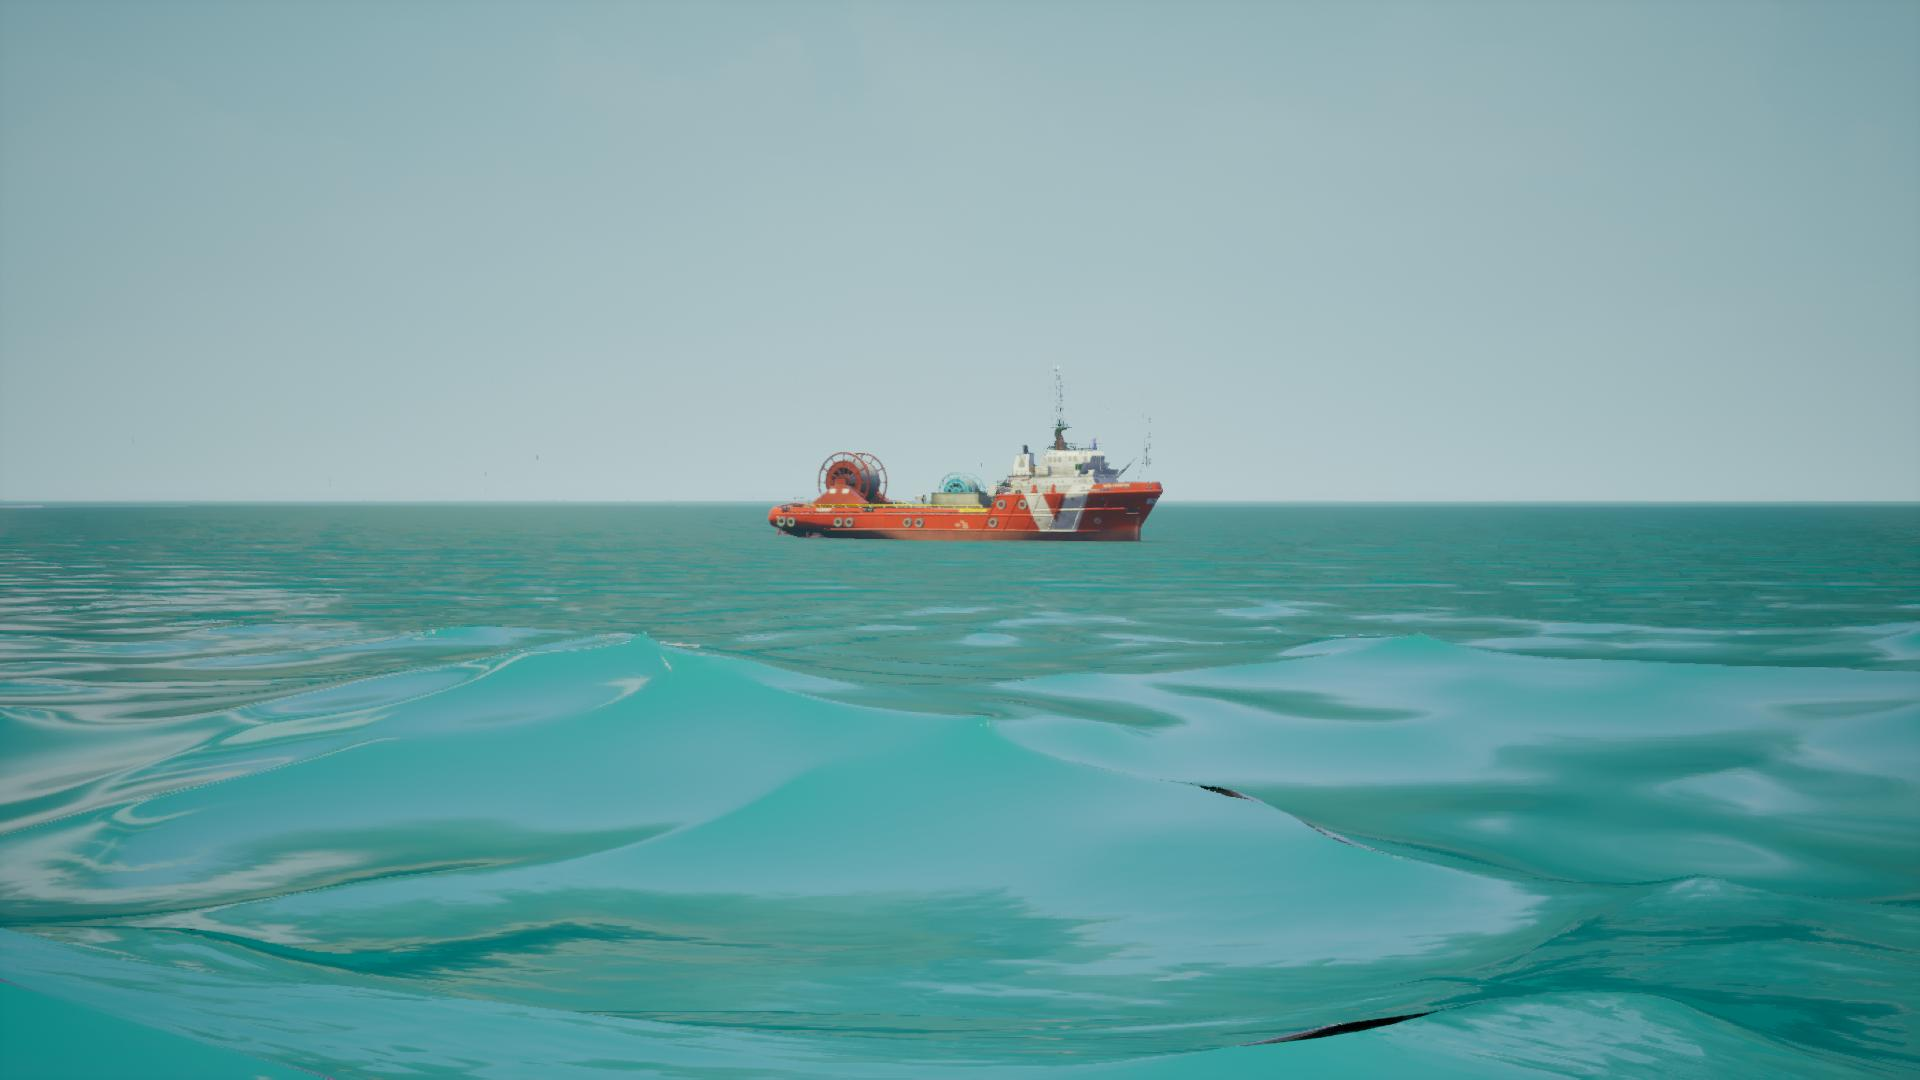Tug Boat: (771, 364, 1162, 545)
